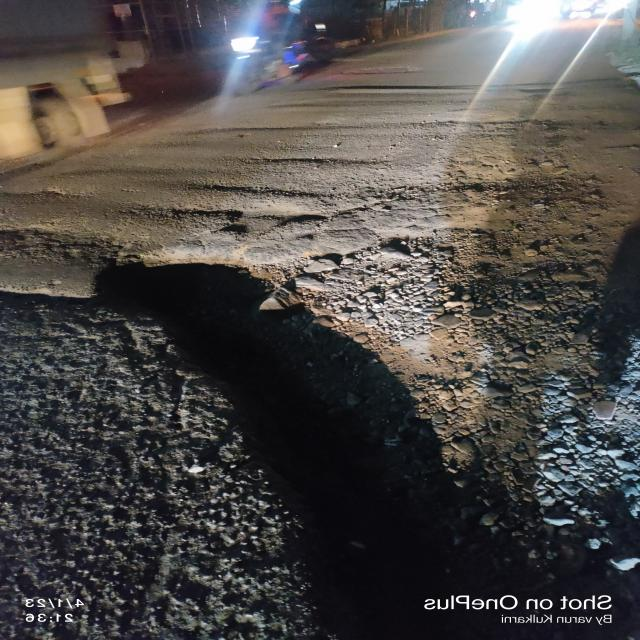potholes: (64, 259, 580, 635)
